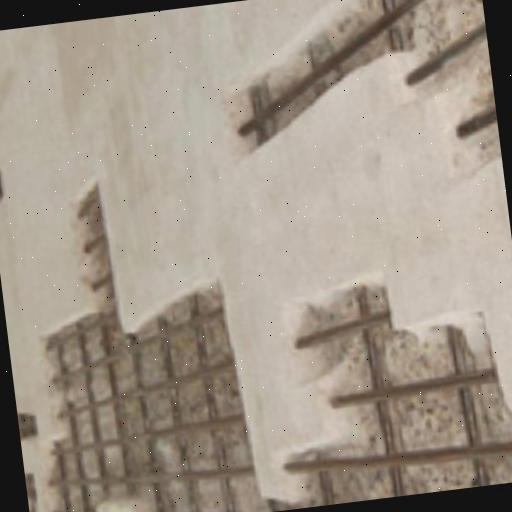spalling: (39, 185, 290, 512), (277, 278, 512, 509), (218, 0, 501, 174)
